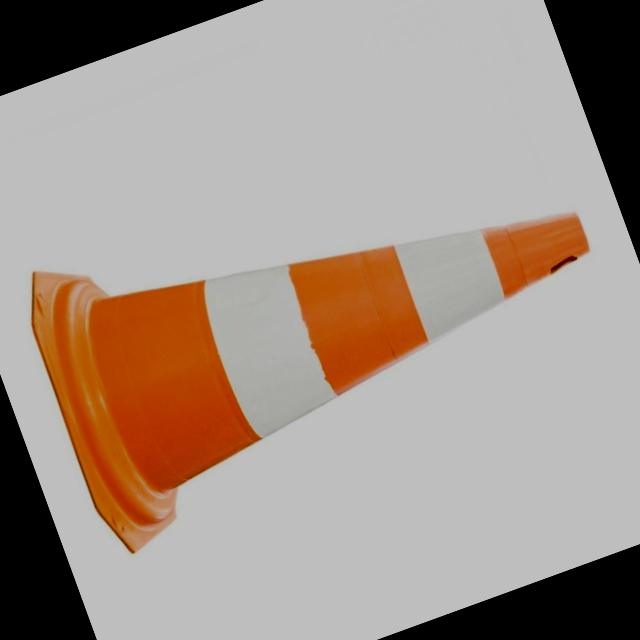cone: (9, 86, 640, 583)
